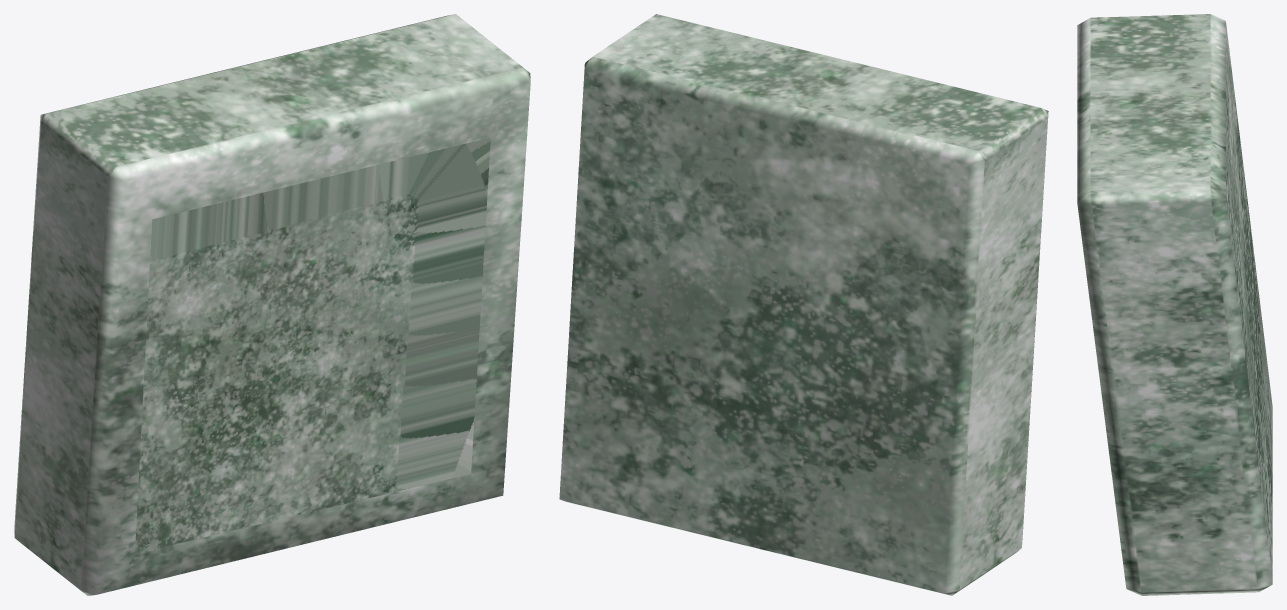
Rendered from totem.fbx.
3 renders of one model, left to right at view 1: azimuth 30°, elevation 25°; view 2: azimuth 150°, elevation 25°; view 3: azimuth 270°, elevation 25°, orthographic. The views are drawn at different scales.
Parts seen in each view (by area): view 1: tomb1; view 2: tomb1; view 3: tomb1.
Boxes of the visible parts, x1,y1,x2,y2 form: tomb1: (14, 14, 530, 595); tomb1: (559, 14, 1048, 595); tomb1: (1077, 14, 1272, 595).
Size of the model in its own units: 14.06 by 14.47 by 6.33.
1 material, 1 textured.
